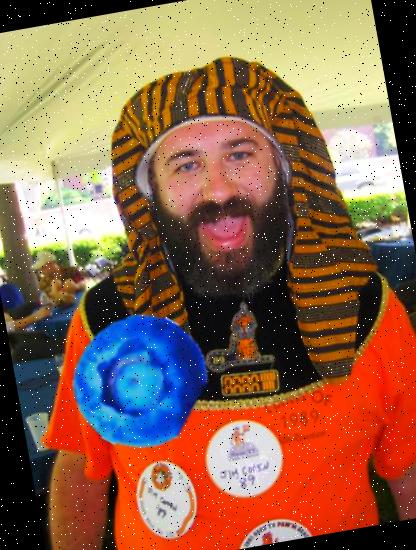Huckleberry: (59, 300, 218, 460)
